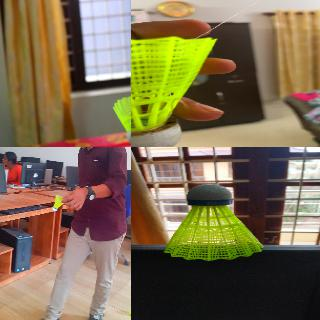shuttlecock: (131, 36, 217, 147), (165, 184, 263, 260), (112, 96, 130, 145), (52, 193, 64, 210)
